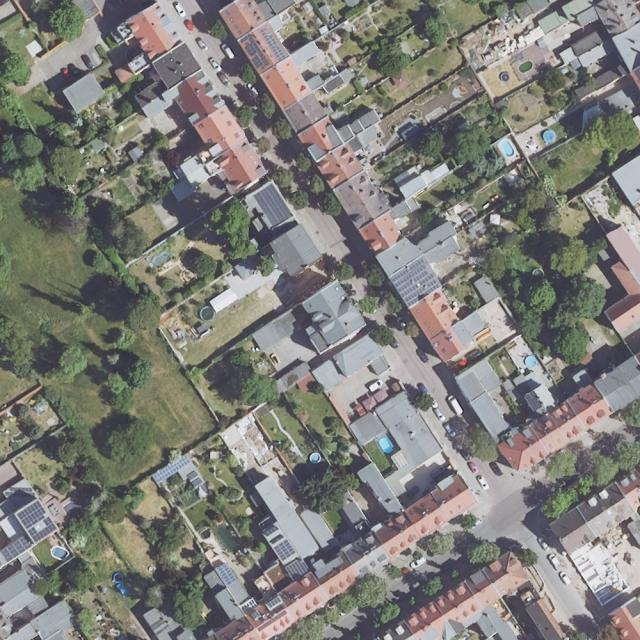PV: (389, 256, 441, 307), (253, 183, 293, 228), (17, 499, 57, 543), (152, 454, 191, 484), (239, 33, 271, 68), (0, 535, 33, 563), (260, 26, 286, 61), (286, 557, 310, 581), (274, 538, 296, 561), (217, 563, 237, 585), (239, 597, 257, 615), (6, 487, 35, 498), (264, 526, 279, 537)
